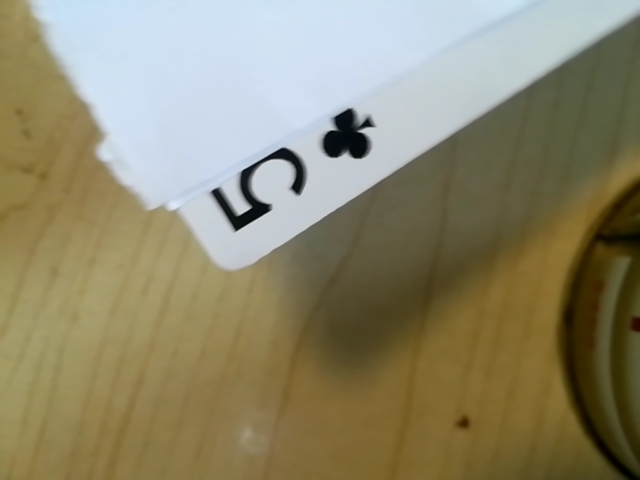mh 5: (197, 101, 389, 244)
